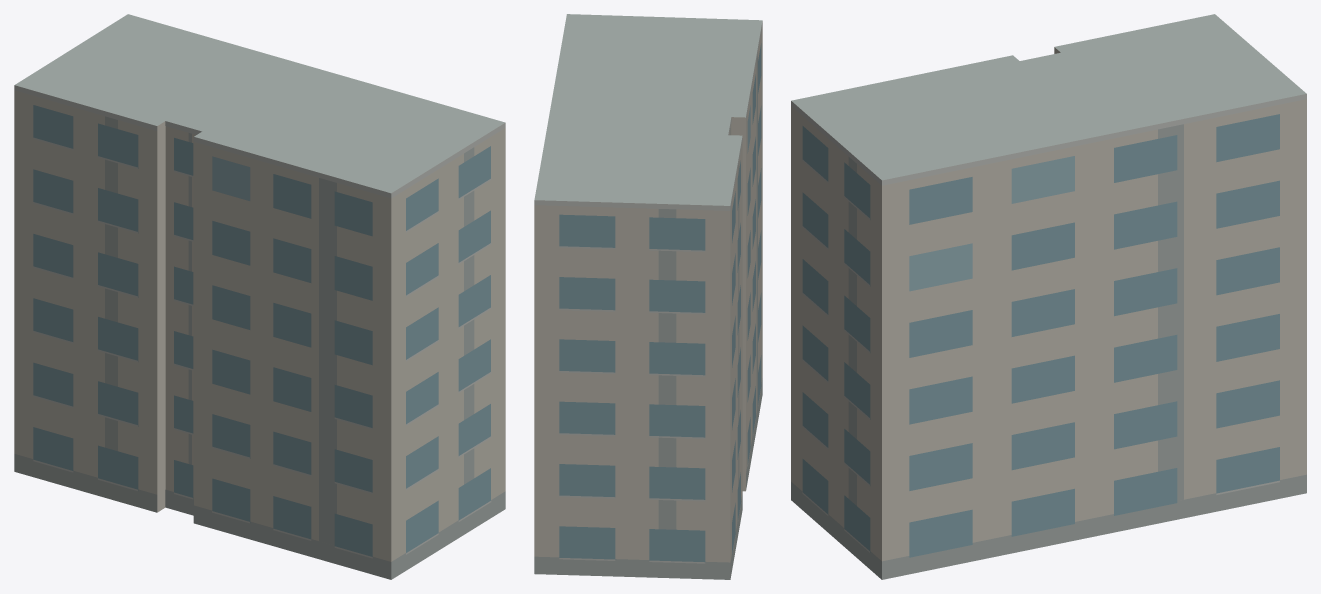
The model's file is survey-upis-32697623.glb.
3 views of the same model, side by side, from view 1: azimuth 30°, elevation 25°; view 2: azimuth 150°, elevation 25°; view 3: azimuth 270°, elevation 25° (orthographic). The views are drawn at different scales.
Parts seen in each view (by area): view 1: survey-upis-32697623.tmp; view 2: survey-upis-32697623.tmp; view 3: survey-upis-32697623.tmp.
Boxes of the visible parts, x1=… form: survey-upis-32697623.tmp: x1=14, y1=14, x2=505, y2=579; survey-upis-32697623.tmp: x1=534, y1=14, x2=762, y2=579; survey-upis-32697623.tmp: x1=791, y1=14, x2=1306, y2=579.
Bounding box in the file's own units: 16.36 × 18.3 × 21.42.
